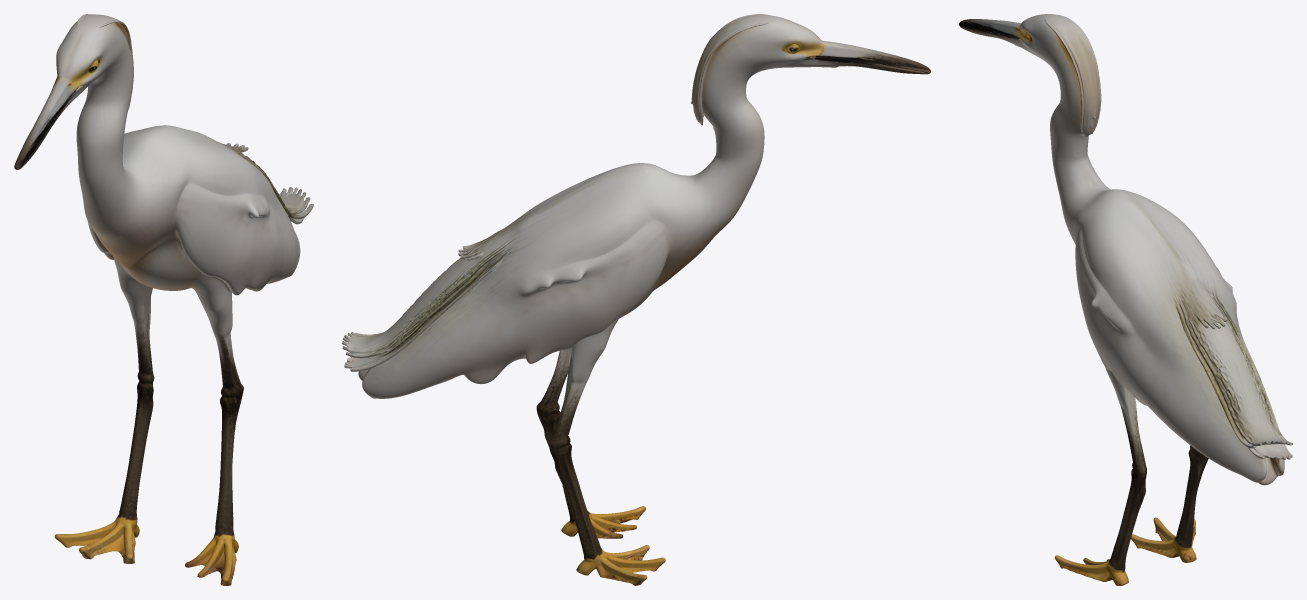
The model's file is nm__snowyegret.glb.
3 views of the same model, side by side, from view 1: azimuth 30°, elevation 25°; view 2: azimuth 150°, elevation 25°; view 3: azimuth 270°, elevation 25° (orthographic). The views are drawn at different scales.
Parts seen in each view (by area): view 1: Object_2, Object_3; view 2: Object_3, Object_2; view 3: Object_2, Object_3.
Part boxes in pixels (left/top/right/bottom): Object_2: left=14, top=14, right=313, bottom=585; Object_3: left=55, top=85, right=295, bottom=563; Object_3: left=372, top=61, right=764, bottom=585; Object_2: left=342, top=14, right=930, bottom=585; Object_2: left=959, top=14, right=1292, bottom=585; Object_3: left=1052, top=132, right=1280, bottom=562.
Size of the model in its own units: 0.4839 by 0.5833 by 0.3572.
1 material, 1 textured.
